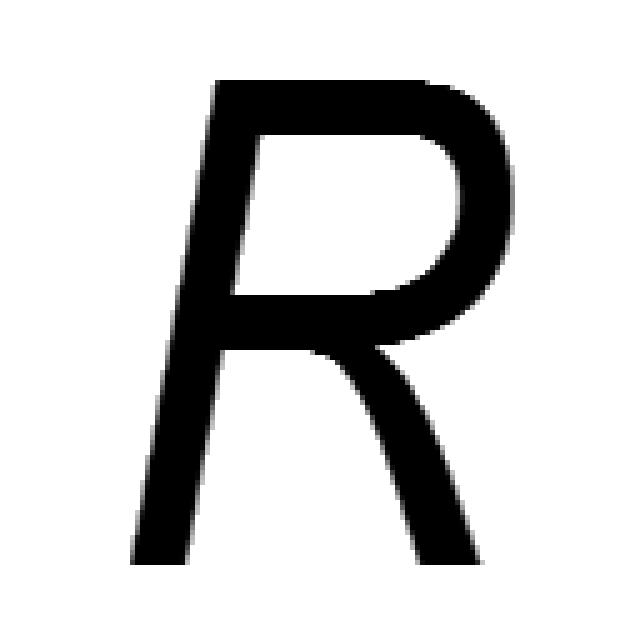R: (120, 70, 520, 570)
